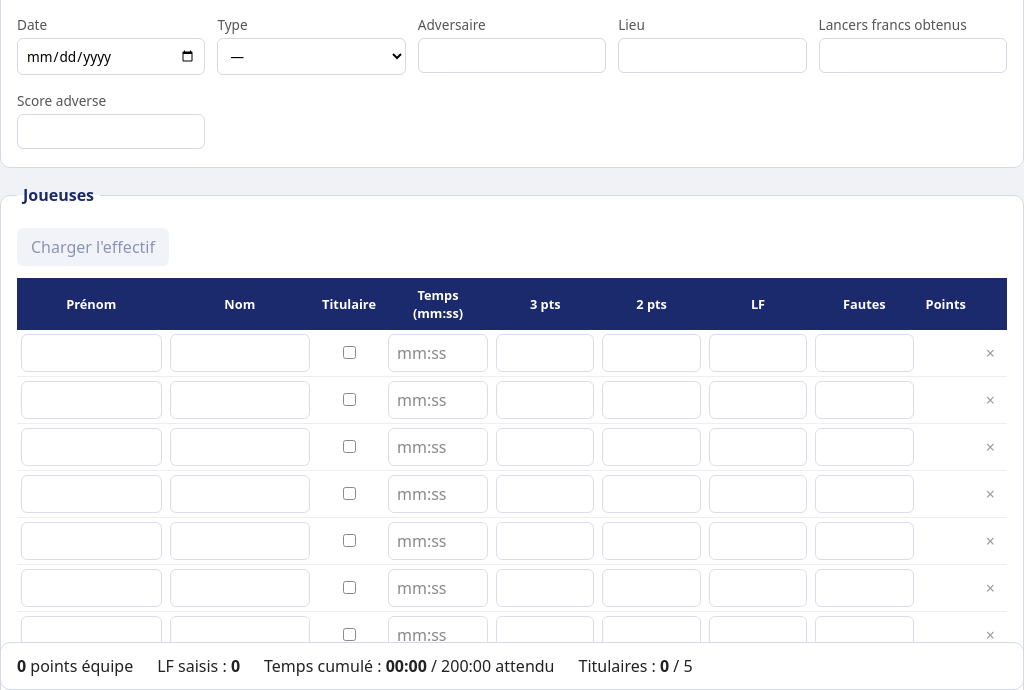
écran de saisie › signale en direct des LF saisis supérieurs aux LF obtenus
The image size is (1024, 690).
In the field labelled "Lancers francs obtenus": (913, 56) [819, 38, 1007, 73], type "2"
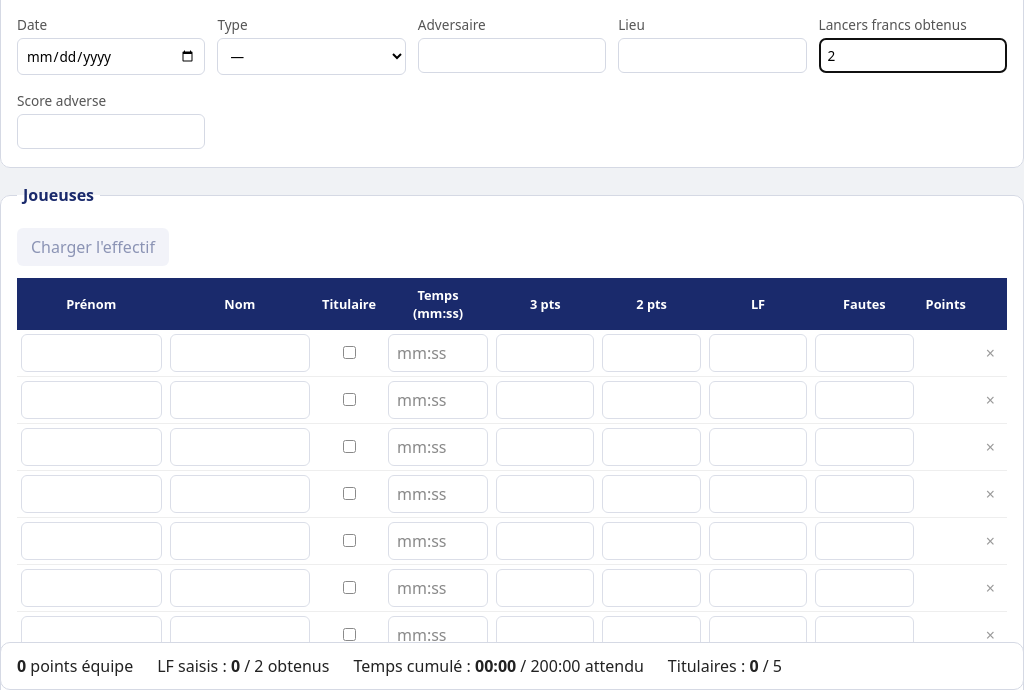
In the field named "LF ligne 1": (758, 353) [709, 334, 807, 372], type "3"
(page scrolled)
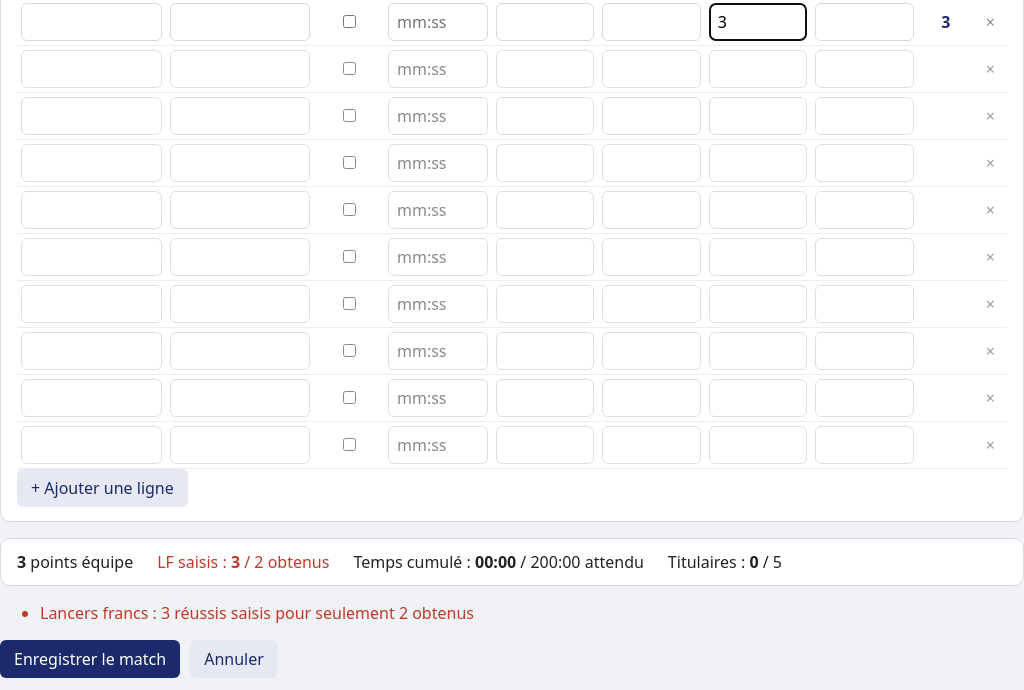
Now the message shows "Lancers francs", box [40, 602, 474, 624]
